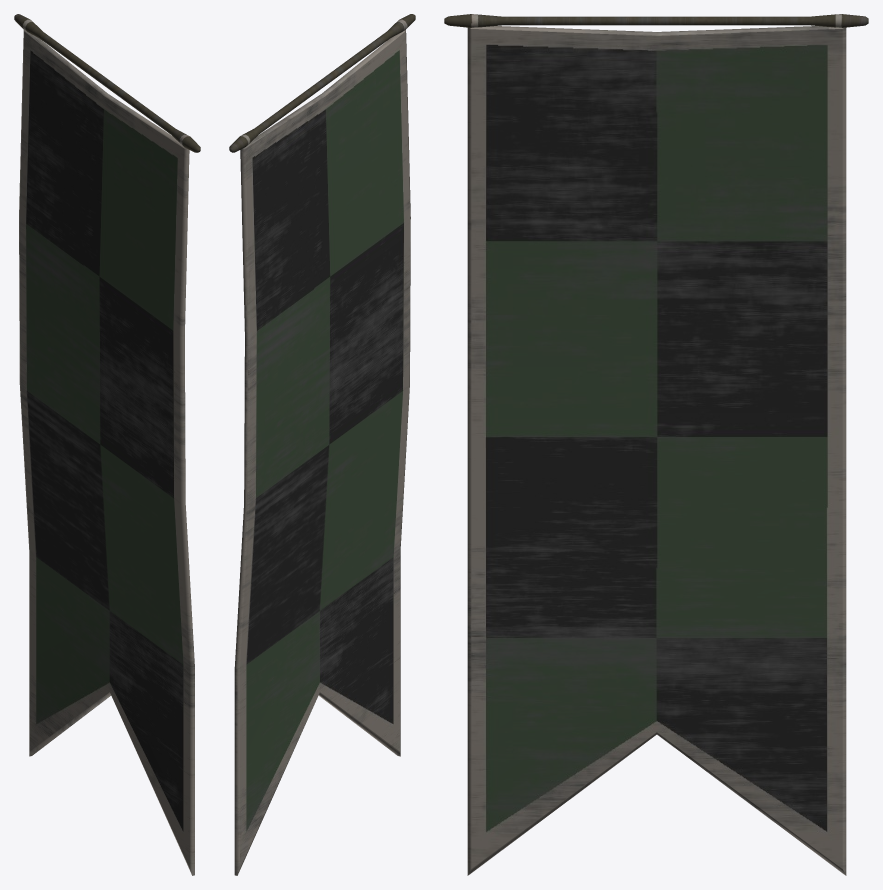
File: banner_worn.glb
3 views of the same model, side by side, from view 1: azimuth 30°, elevation 25°; view 2: azimuth 150°, elevation 25°; view 3: azimuth 270°, elevation 25° (orthographic). The views are drawn at different scales.
Visible parts, largest first — view 1: defaultMaterial; view 2: defaultMaterial; view 3: defaultMaterial.
Boxes of the visible parts, <box> form: defaultMaterial: <box>14,14,200,875</box>; defaultMaterial: <box>229,14,415,875</box>; defaultMaterial: <box>444,14,868,875</box>.
Bounding box in the file's own units: 15.79 × 743 × 333.
Materials: 1 (1 with a texture image).
